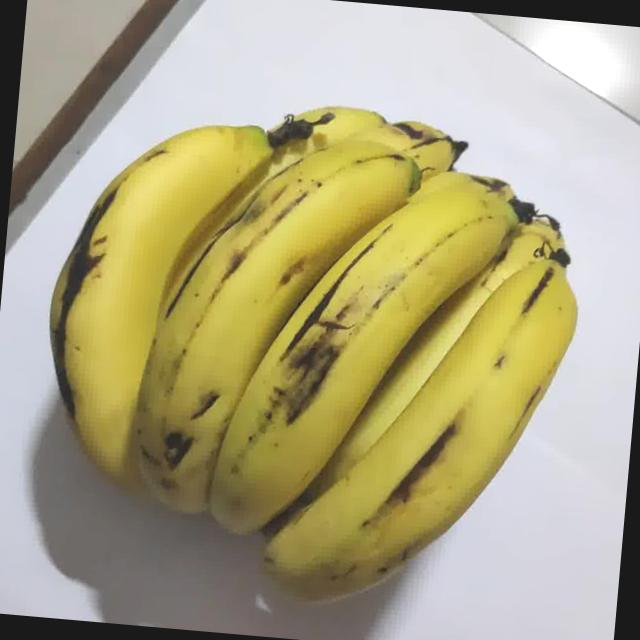banana_pacche: (21, 0, 636, 638)
